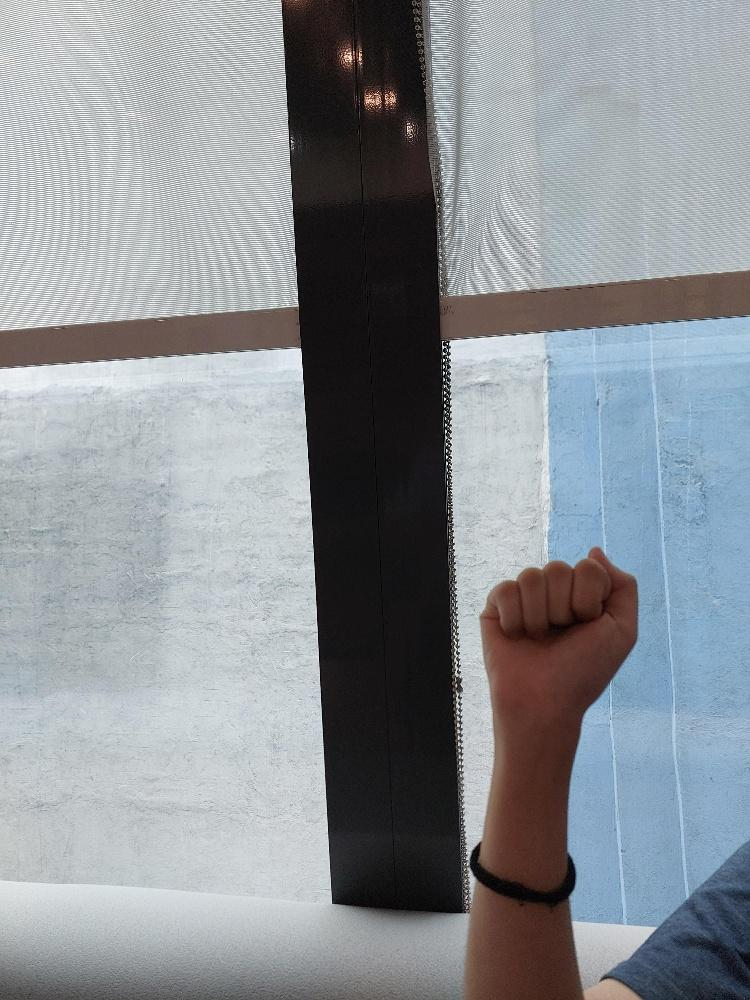a: (472, 543, 640, 712)
